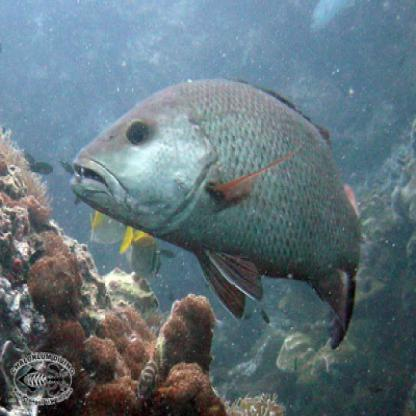snapper: (67, 72, 368, 355)
